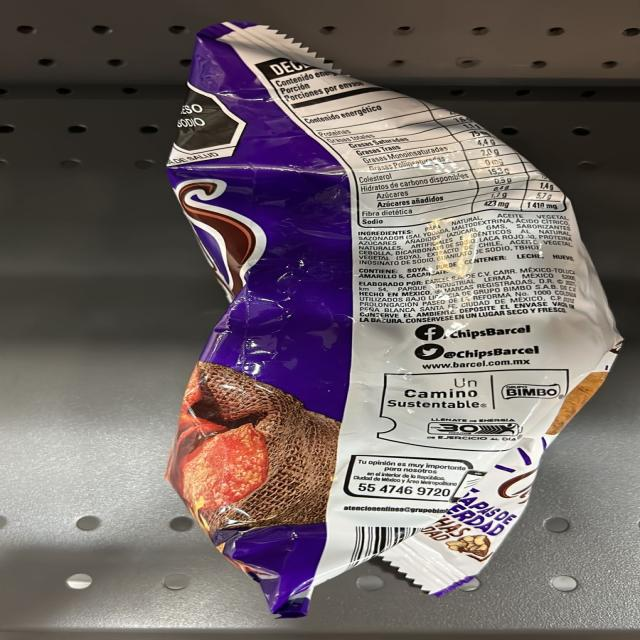productoAtras: (278, 37, 572, 601)
